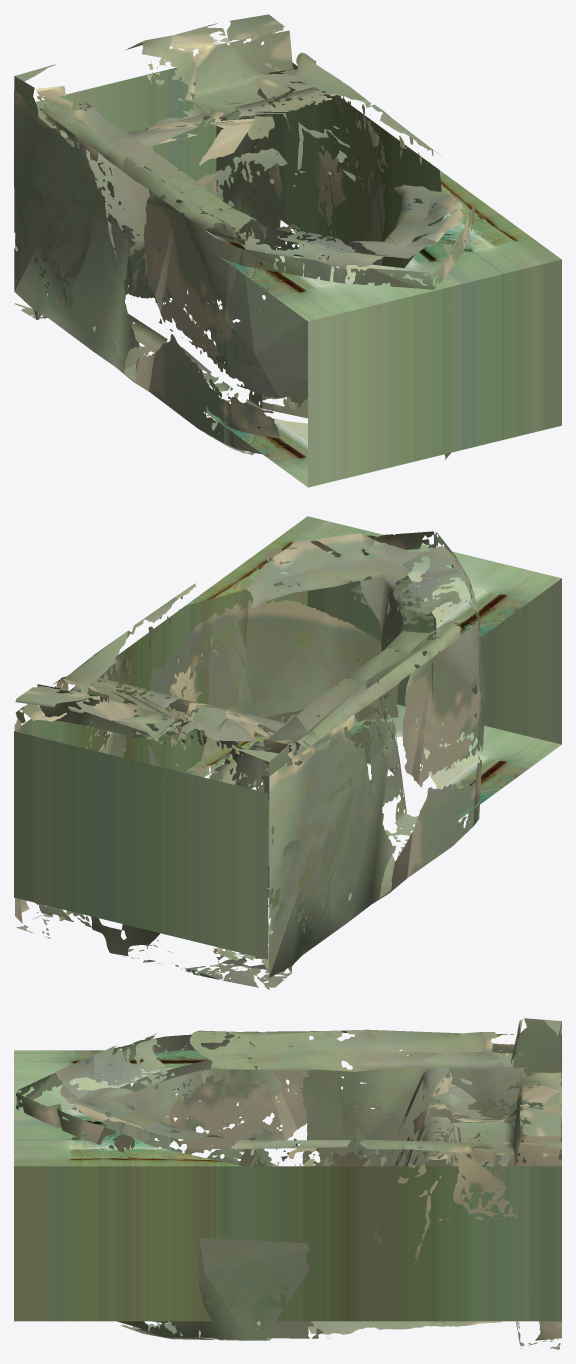
File: Ruins_Wall_Arch_8Mx4M_A.fbx
3 views of the same model, one above another, from view 1: azimuth 30°, elevation 25°; view 2: azimuth 150°, elevation 25°; view 3: azimuth 270°, elevation 25° (orthographic). The views are drawn at different scales.
Visible parts, largest first — view 1: Ruins_Wall_Arch_8Mx4M_A; view 2: Ruins_Wall_Arch_8Mx4M_A; view 3: Ruins_Wall_Arch_8Mx4M_A.
Part boxes in pixels (<box>): Ruins_Wall_Arch_8Mx4M_A: <box>14,14,561,487</box>; Ruins_Wall_Arch_8Mx4M_A: <box>14,516,561,989</box>; Ruins_Wall_Arch_8Mx4M_A: <box>14,1018,561,1349</box>.
Bounding box in the file's own units: 410 × 361 × 800.
